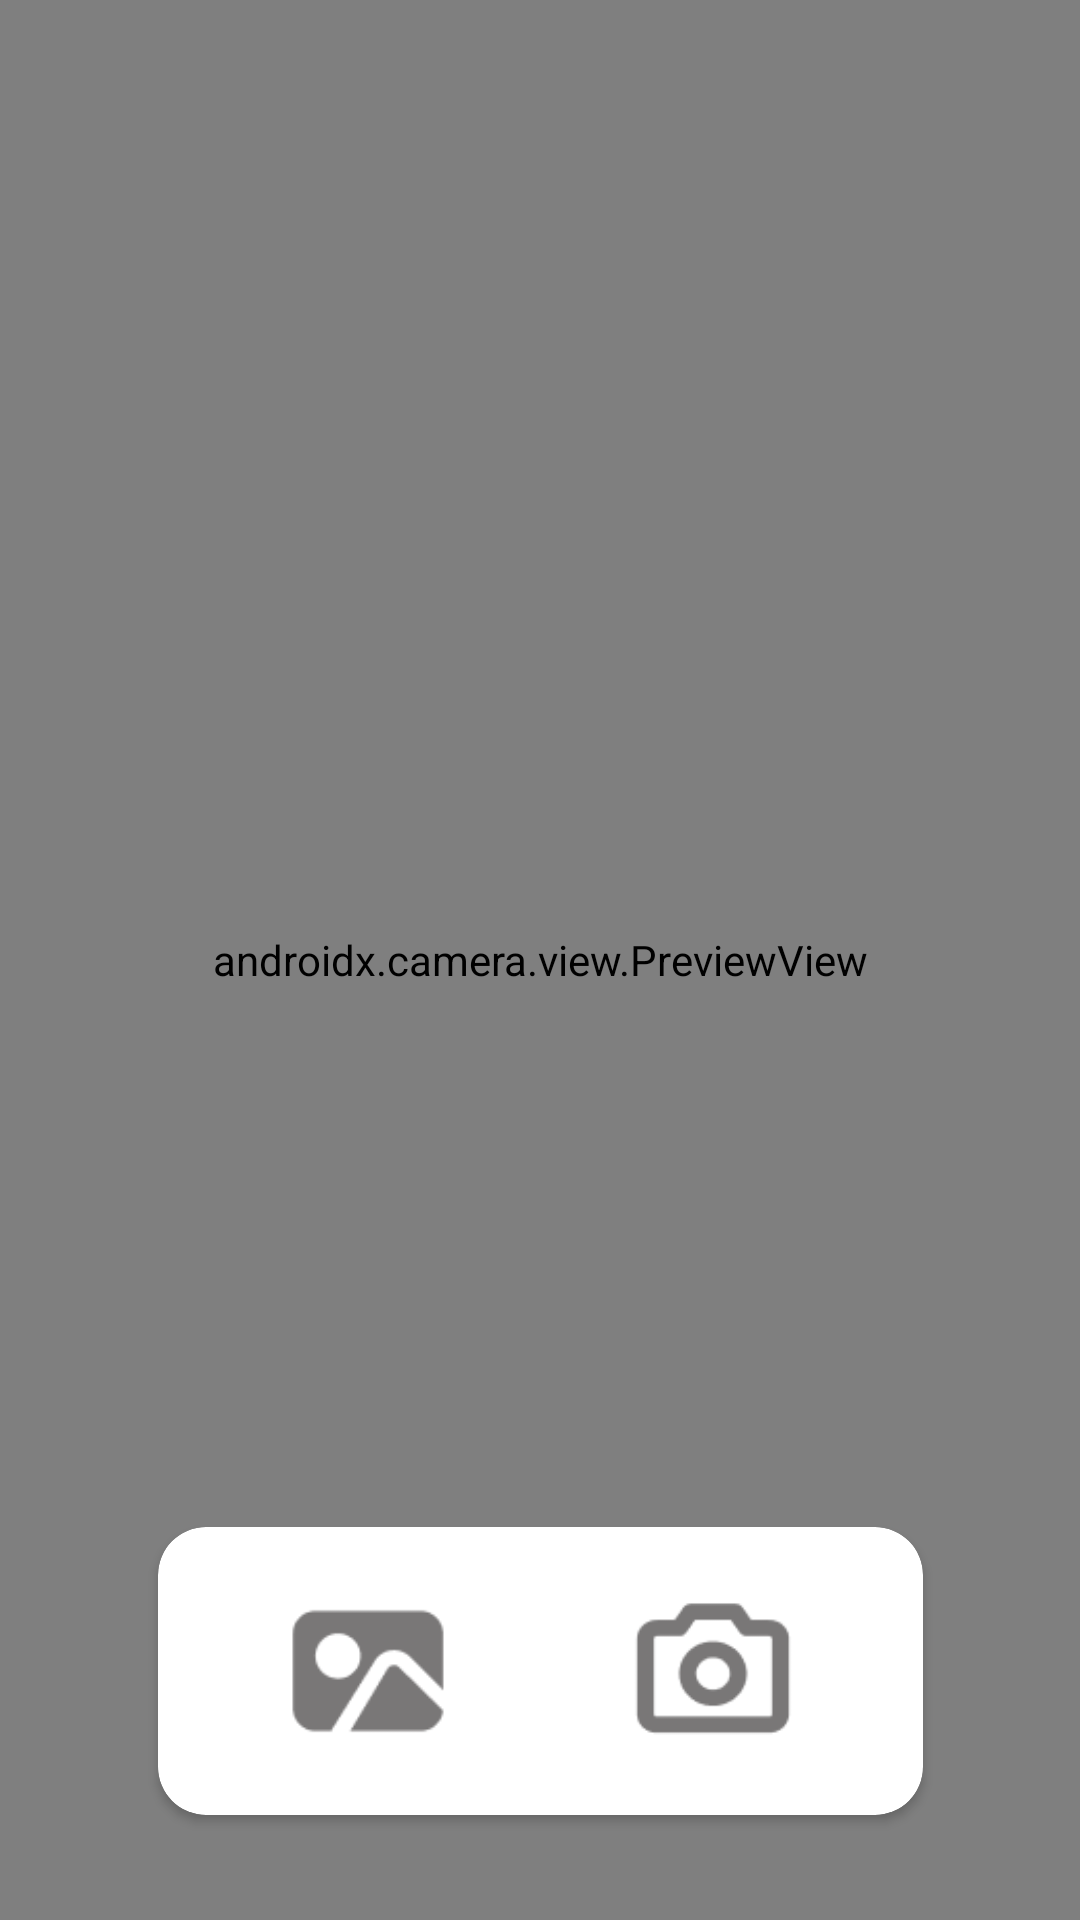

Where icons sit on this 1080px x 1920px app screen, as (x1, y1, x2, y2):
capture: (636, 1603, 790, 1733)
gallery: (292, 1610, 444, 1732)
